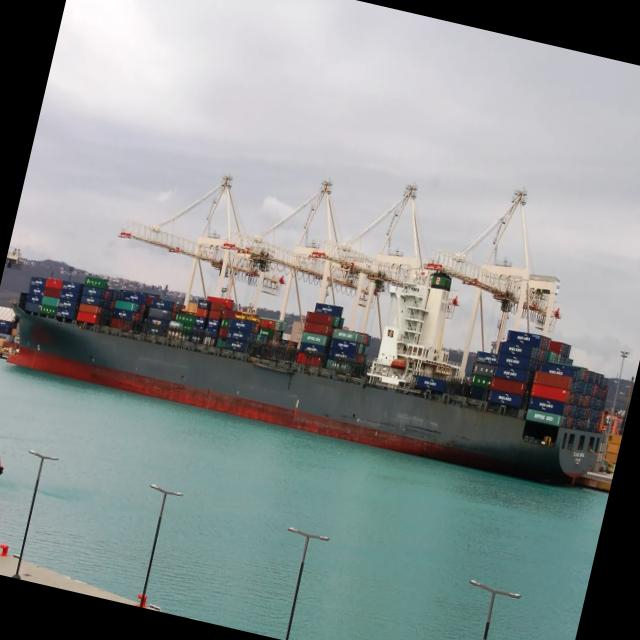Cargo: (8, 276, 607, 484)
